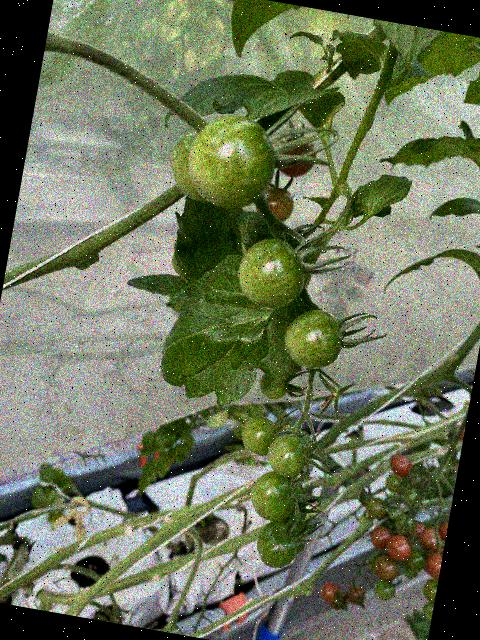l_green: (181, 106, 284, 216), (231, 232, 311, 315), (279, 305, 346, 373), (163, 124, 219, 202), (245, 467, 301, 525), (253, 516, 303, 572), (263, 430, 311, 479), (238, 412, 281, 458), (257, 372, 289, 400)
l_half_ripened: (271, 131, 320, 181), (253, 183, 296, 223)
